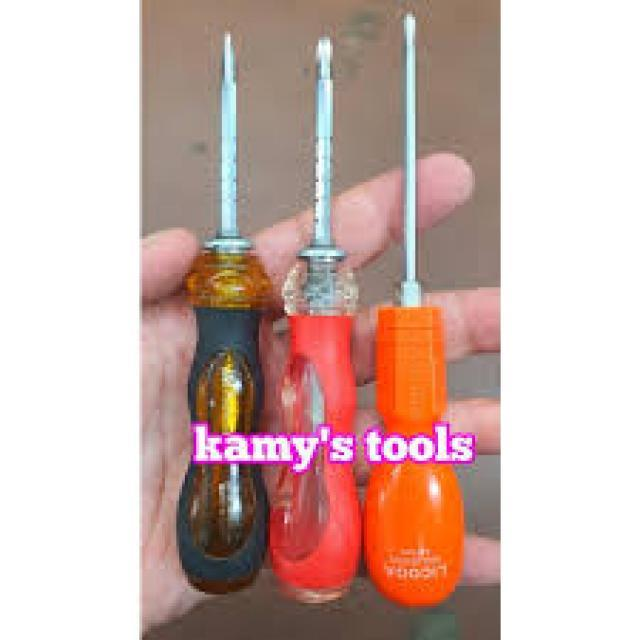screwdriver: (362, 4, 466, 613), (268, 28, 362, 618), (172, 27, 266, 604)
